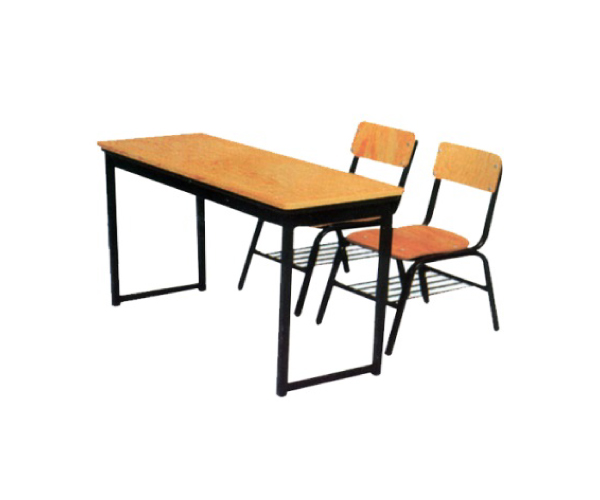m01: (96, 132, 406, 397)
